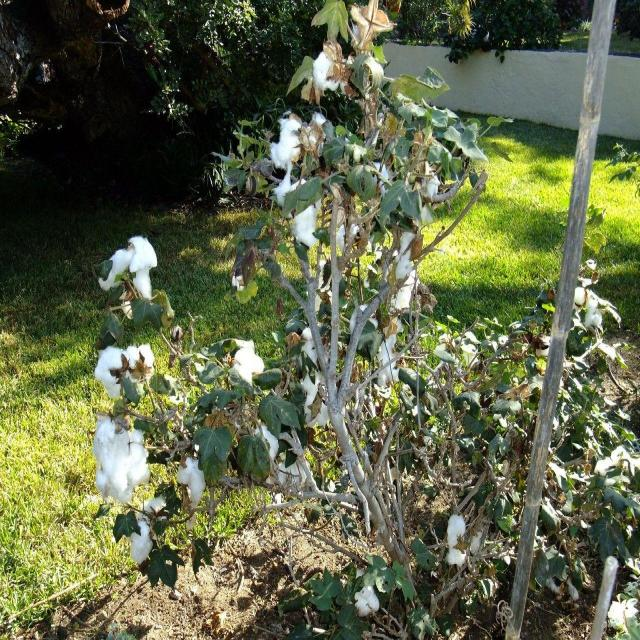Late_blight: (91, 413, 153, 505), (94, 230, 158, 308), (89, 334, 157, 403), (268, 106, 324, 172), (306, 35, 350, 97), (571, 276, 609, 338), (174, 447, 208, 511), (443, 513, 471, 571), (124, 515, 154, 568), (352, 580, 384, 623), (418, 166, 445, 210)
